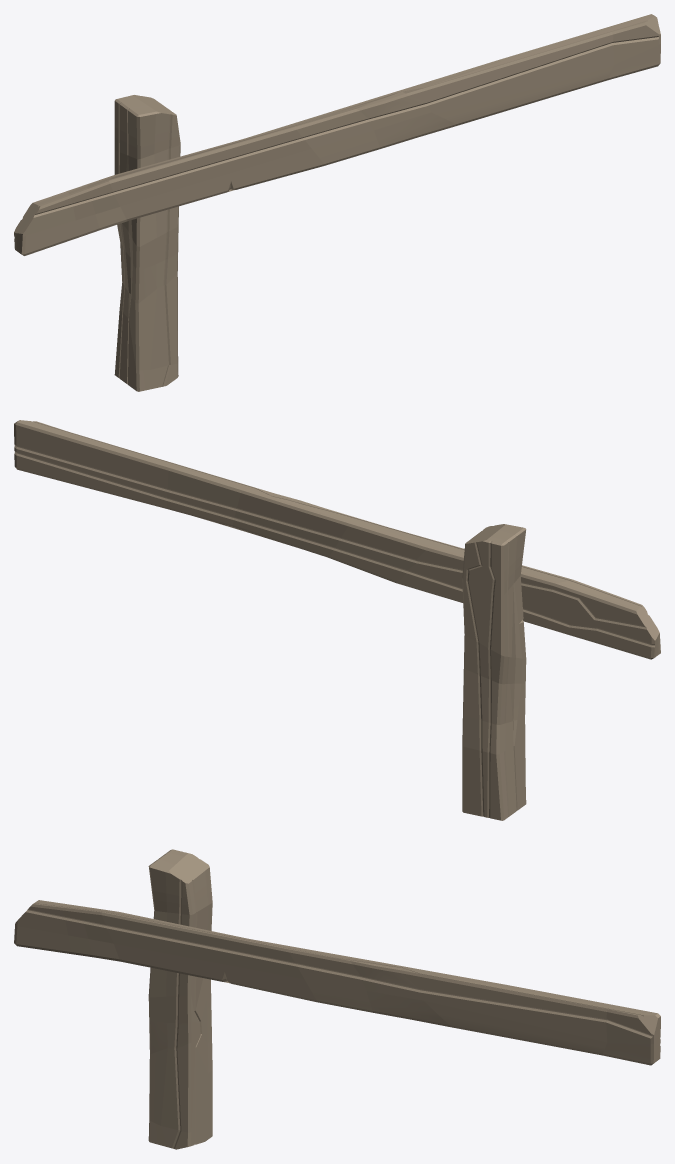
Rendered from fence02.fbx.
3 renders of one model, top to bottom at view 1: azimuth 30°, elevation 25°; view 2: azimuth 150°, elevation 25°; view 3: azimuth 330°, elevation 25°, orthographic.
Parts seen in each view (by area): view 1: poutre12; view 2: poutre12; view 3: poutre12.
Part boxes in pixels (box(x1,y1,x2,y2)): poutre12: box(14, 14, 660, 391); poutre12: box(14, 420, 660, 820); poutre12: box(14, 849, 660, 1149).
Bounding box in the file's own units: 36.3 × 15.06 × 3.28.
